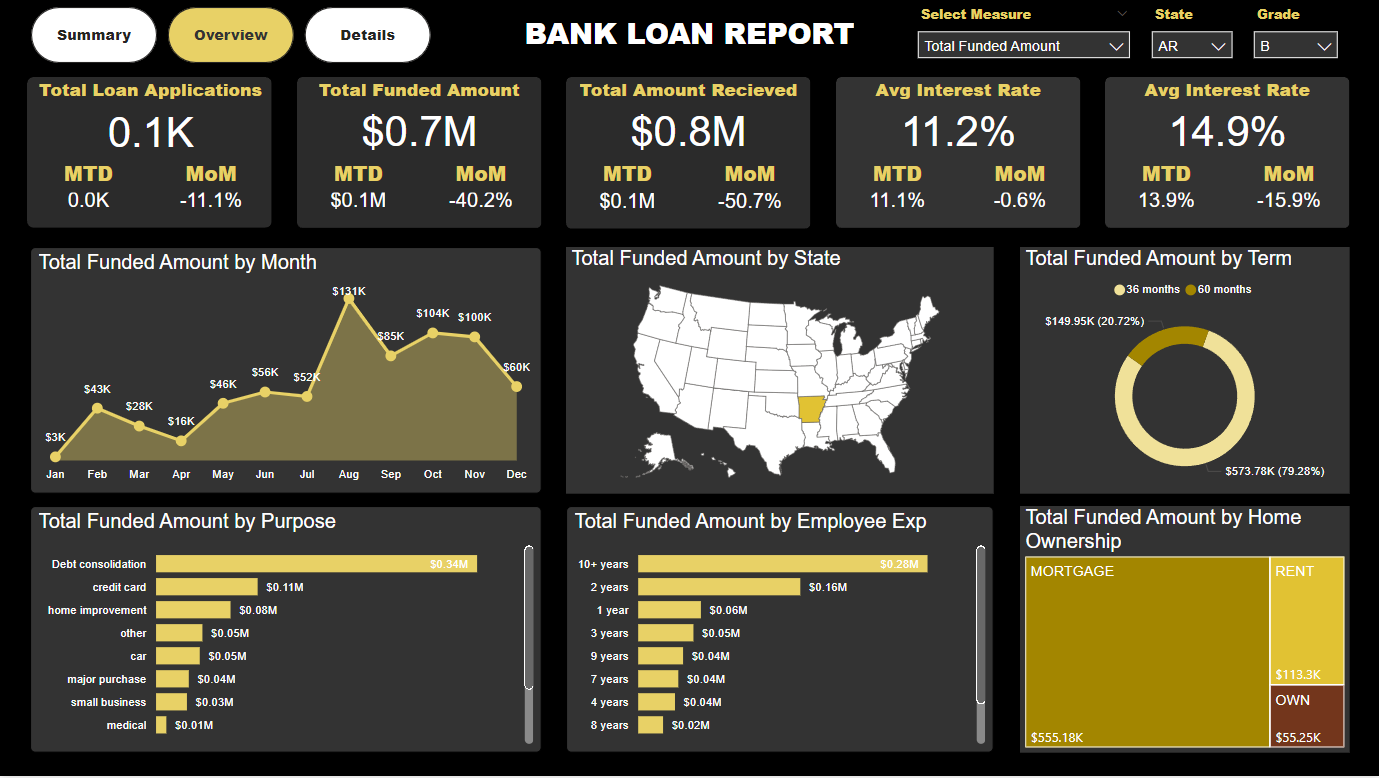

This screenshot's page, from the dashboard's own definition file:
{"tool":"powerbi","page":{"name":"Overview","canvas":[1280,720],"ordinal":1},"visuals":[{"type":"group","id":"g1","title":"Group 1","box":[25.2,71.1,227.6,140.3],"z":0},{"type":"shape","box":[275.9,71.1,227,140.3],"z":0,"group":"g2"},{"type":"shape","box":[525.8,71.1,227,140.9],"z":0,"group":"g3"},{"type":"shape","box":[775.6,71.1,227,140.3],"z":0,"group":"g4"},{"type":"shape","box":[1025.4,71.1,227,140.3],"z":0,"group":"g5"},{"type":"shape","box":[25.2,71.5,227.3,140],"z":0,"group":"g1"},{"type":"card","title":"Total Loan Applications","fields":{"Values":["bank_loan_data.Total Loan Applications"]},"box":[27.1,71.1,225.7,75.9],"z":1000,"group":"g1"},{"type":"group","id":"g2","title":"Group 1","box":[275.9,71.1,226.7,140.3],"z":1000},{"type":"card","title":"Total Funded Amount","fields":{"Values":["bank_loan_data.Total Funded Amount"]},"box":[275.9,71.1,227,74.9],"z":1000,"group":"g2"},{"type":"card","title":"Total Amount Recieved","fields":{"Values":["bank_loan_data.Total Amount Recieved"]},"box":[525.8,71.1,227,75.3],"z":1000,"group":"g3"},{"type":"card","title":"Avg Interest Rate","fields":{"Values":["bank_loan_data.Average Interest Rate"]},"box":[775.6,71.1,227,74.9],"z":1000,"group":"g4"},{"type":"card","title":"Avg Interest Rate","fields":{"Values":["bank_loan_data.Avg DTI"]},"box":[1025.4,71.1,227,74.9],"z":1000,"group":"g5"},{"type":"group","id":"g3","title":"Group 1","box":[525.8,71.1,226.7,140.3],"z":2000},{"type":"card","title":"MTD","fields":{"Values":["bank_loan_data.MTD Funded Amount"]},"box":[275.9,146,113.9,54.2],"z":2000,"group":"g2"},{"type":"card","title":"MTD","fields":{"Values":["bank_loan_data.MTD Avg Interest Rate"]},"box":[775.6,146,113.9,54.2],"z":2000,"group":"g4"},{"type":"card","title":"MTD","fields":{"Values":["bank_loan_data.MTD Average DTI"]},"box":[1025.4,146,113.9,54.2],"z":2000,"group":"g5"},{"type":"card","title":"MTD","fields":{"Values":["bank_loan_data.MTD Loan Applications"]},"box":[25.2,146.2,114.1,54.1],"z":2000,"group":"g1"},{"type":"card","title":"MTD","fields":{"Values":["bank_loan_data.MTD Amount Recieved"]},"box":[525.8,146.4,113.9,54.4],"z":2000,"group":"g3"},{"type":"group","id":"g4","title":"Group 1","box":[775.6,71.1,226.7,140.3],"z":3000},{"type":"card","title":"MoM","fields":{"Values":["bank_loan_data.MoM Funded Amount"]},"box":[389.8,146,113.1,54.2],"z":3000,"group":"g2"},{"type":"card","title":"MoM","fields":{"Values":["bank_loan_data.MoM Avg Interest Rate"]},"box":[889.5,146,113.1,54.2],"z":3000,"group":"g4"},{"type":"card","title":"MoM","fields":{"Values":["bank_loan_data.MoM Avgerage DTI"]},"box":[1139.3,146,113.1,54.2],"z":3000,"group":"g5"},{"type":"card","title":"MoM","fields":{"Values":["bank_loan_data.MoM Loan Application"]},"box":[139.3,146.2,113.3,54.1],"z":3000,"group":"g1"},{"type":"card","title":"MoM","fields":{"Values":["bank_loan_data.MoM Amount Recieved"]},"box":[639.7,146.4,113.1,54.4],"z":3000,"group":"g3"},{"type":"group","id":"g5","title":"Group 1","box":[1025.4,71.1,227,140.3],"z":4000},{"type":"shape","box":[0,0,1280,57.4],"z":5000},{"type":"slicer","fields":{"Values":["bank_loan_data.address_state"]},"box":[1058.7,0,94.9,57.6],"z":6000},{"type":"slicer","fields":{"Values":["bank_loan_data.grade"]},"box":[1153.6,0,98.4,57.6],"z":8000},{"type":"areaChart","fields":{"Y":["bank_loan_data.Total Loan Applications"],"Category":["Date Table.Month"]},"box":[27.5,229.7,475.3,228.8],"z":9000},{"type":"slicer","fields":{"Values":["Select Measure.Select Measure"]},"box":[841.5,0,217.2,57.6],"z":10000},{"type":"shapeMap","fields":{"Value":["bank_loan_data.Total Loan Applications"],"Category":["bank_loan_data.address_state"]},"box":[525.8,229.7,397.2,228.8],"z":11000},{"type":"donutChart","fields":{"Y":["bank_loan_data.Total Loan Applications"],"Category":["bank_loan_data.term"]},"box":[947,229.7,305.9,228.8],"z":12000},{"type":"barChart","fields":{"Y":["bank_loan_data.Total Loan Applications"],"Category":["bank_loan_data.emp_length"]},"box":[525.8,470,397.2,228.8],"z":13000},{"type":"barChart","fields":{"Y":["bank_loan_data.Total Loan Applications"],"Category":["bank_loan_data.purpose"]},"box":[27.5,470,475.3,228.8],"z":14000},{"type":"treemap","fields":{"Values":["bank_loan_data.Total Loan Applications"],"Group":["bank_loan_data.home_ownership"]},"box":[947,470,306,229],"z":15000},{"type":"pageNavigator","box":[28.4,6.2,371.5,52.3],"z":16000},{"type":"textbox","box":[469.1,6.2,342.3,52.3],"z":17000}]}

Visuals, with their boxes in screenshot pixels (x1, y1, x2, y2), scaled from the page's 1280x720 canvas onto the 1379x778 screenshot:
"Group 1" group: [x1=27, y1=77, x2=272, y2=228]
shape: [x1=297, y1=77, x2=542, y2=228]
shape: [x1=566, y1=77, x2=811, y2=229]
shape: [x1=836, y1=77, x2=1080, y2=228]
shape: [x1=1105, y1=77, x2=1349, y2=228]
shape: [x1=27, y1=77, x2=272, y2=229]
"Total Loan Applications" card: [x1=29, y1=77, x2=272, y2=159]
"Group 1" group: [x1=297, y1=77, x2=541, y2=228]
"Total Funded Amount" card: [x1=297, y1=77, x2=542, y2=158]
"Total Amount Recieved" card: [x1=566, y1=77, x2=811, y2=158]
"Avg Interest Rate" card: [x1=836, y1=77, x2=1080, y2=158]
"Avg Interest Rate" card: [x1=1105, y1=77, x2=1349, y2=158]
"Group 1" group: [x1=566, y1=77, x2=811, y2=228]
"MTD" card: [x1=297, y1=158, x2=420, y2=216]
"MTD" card: [x1=836, y1=158, x2=958, y2=216]
"MTD" card: [x1=1105, y1=158, x2=1227, y2=216]
"MTD" card: [x1=27, y1=158, x2=150, y2=216]
"MTD" card: [x1=566, y1=158, x2=689, y2=217]
"Group 1" group: [x1=836, y1=77, x2=1080, y2=228]
"MoM" card: [x1=420, y1=158, x2=542, y2=216]
"MoM" card: [x1=958, y1=158, x2=1080, y2=216]
"MoM" card: [x1=1227, y1=158, x2=1349, y2=216]
"MoM" card: [x1=150, y1=158, x2=272, y2=216]
"MoM" card: [x1=689, y1=158, x2=811, y2=217]
"Group 1" group: [x1=1105, y1=77, x2=1349, y2=228]
shape: [x1=0, y1=0, x2=1378, y2=62]
slicer - bank_loan_data.address_state: [x1=1141, y1=0, x2=1243, y2=62]
slicer - bank_loan_data.grade: [x1=1243, y1=0, x2=1349, y2=62]
areaChart - bank_loan_data.Total Loan Applications x Date Table.Month: [x1=30, y1=248, x2=542, y2=495]
slicer - Select Measure.Select Measure: [x1=907, y1=0, x2=1141, y2=62]
shapeMap - bank_loan_data.Total Loan Applications x bank_loan_data.address_state: [x1=566, y1=248, x2=994, y2=495]
donutChart - bank_loan_data.Total Loan Applications x bank_loan_data.term: [x1=1020, y1=248, x2=1350, y2=495]
barChart - bank_loan_data.Total Loan Applications x bank_loan_data.emp_length: [x1=566, y1=508, x2=994, y2=755]
barChart - bank_loan_data.Total Loan Applications x bank_loan_data.purpose: [x1=30, y1=508, x2=542, y2=755]
treemap - bank_loan_data.Total Loan Applications x bank_loan_data.home_ownership: [x1=1020, y1=508, x2=1350, y2=755]
pageNavigator: [x1=31, y1=7, x2=431, y2=63]
textbox: [x1=505, y1=7, x2=874, y2=63]
